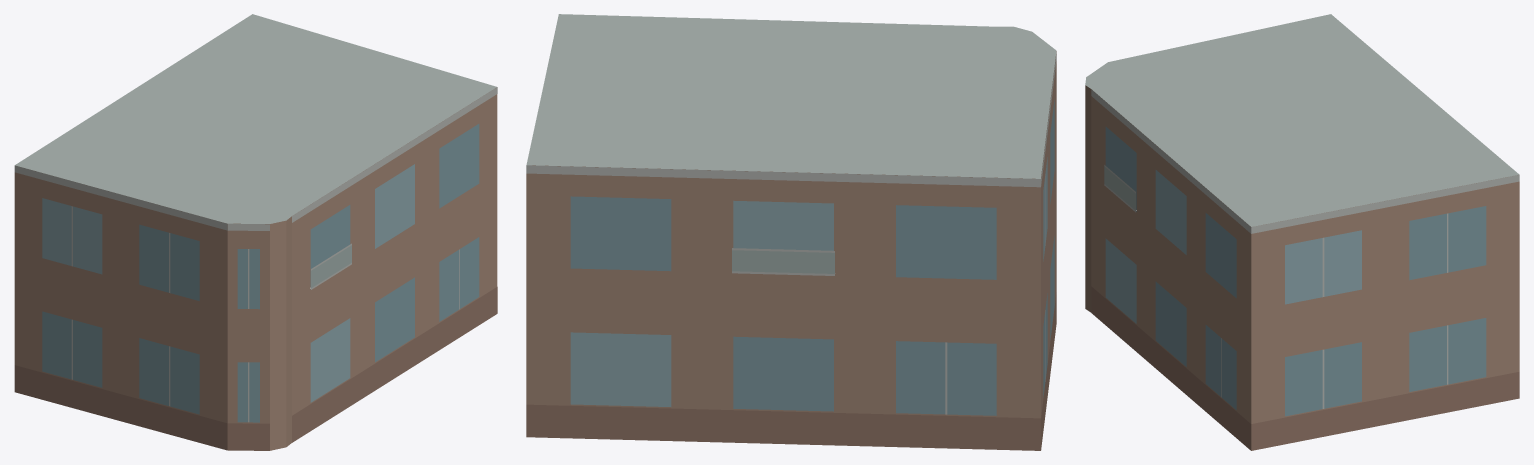
File: survey-upis-32839383.glb
The picture shows the model from 3 angles, left to right: view 1: azimuth 30°, elevation 25°; view 2: azimuth 150°, elevation 25°; view 3: azimuth 270°, elevation 25°; orthographic projection. The views are drawn at different scales.
Parts seen in each view (by area): view 1: survey-upis-32839383.tmp; view 2: survey-upis-32839383.tmp; view 3: survey-upis-32839383.tmp.
Part boxes in pixels (x1,y1,x2,y2): survey-upis-32839383.tmp: (14, 14, 497, 450); survey-upis-32839383.tmp: (526, 14, 1056, 450); survey-upis-32839383.tmp: (1085, 14, 1519, 450).
Bounding box in the file's own units: 16.24 × 7.95 × 13.99.
